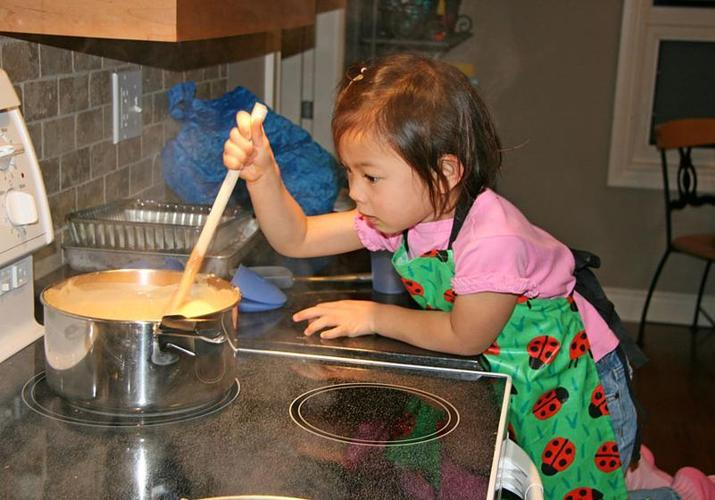person: (223, 51, 686, 500)
